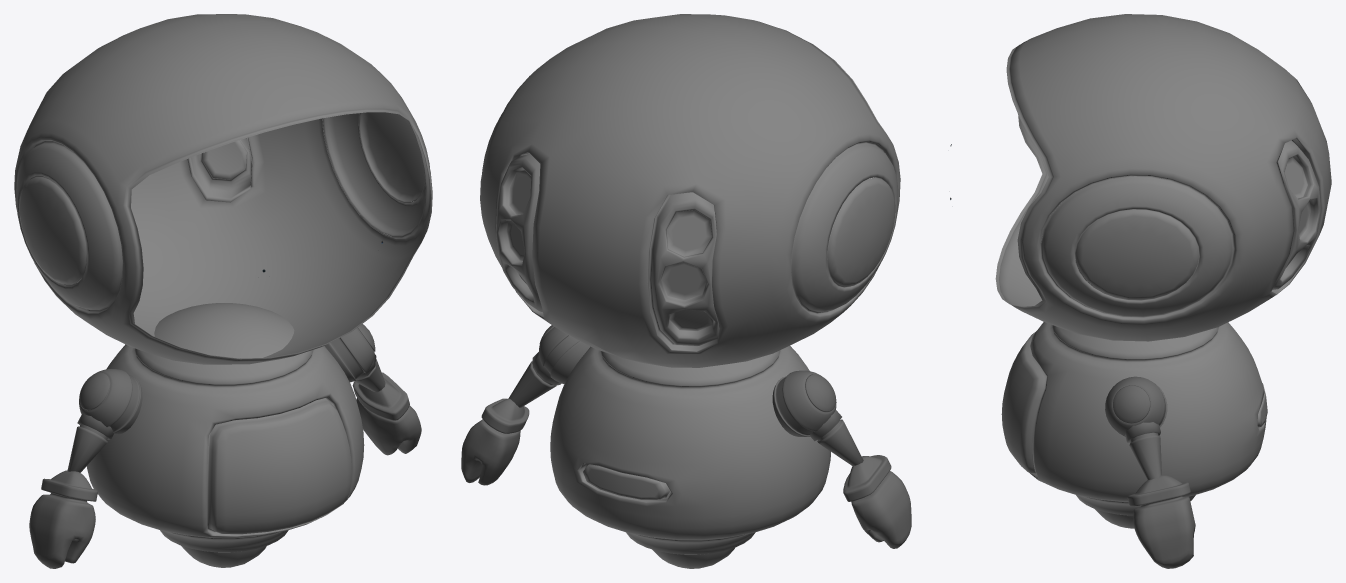
File: robot.dae
The picture shows the model from 3 angles, left to right: view 1: azimuth 30°, elevation 25°; view 2: azimuth 150°, elevation 25°; view 3: azimuth 270°, elevation 25°; orthographic projection. The views are drawn at different scales.
Parts seen in each view (by area): view 1: polySurface24, polySurface15, polySurface14, polySurface19, polySurface16, polySurface4, polySurface3, polySurface7, polySurface8, polySurface5, polySurface9, polySurface6; view 2: polySurface24, polySurface15, polySurface19, polySurface4, polySurface3, polySurface7, polySurface8, polySurface5, polySurface6, polySurface9; view 3: polySurface24, polySurface15, polySurface16, polySurface3, polySurface14, polySurface8, polySurface6.
Boxes of the visible parts, x1=… form: polySurface24: x1=14, y1=14, x2=432, y2=364; polySurface15: x1=86, y1=303, x2=364, y2=552; polySurface14: x1=208, y1=399, x2=351, y2=534; polySurface19: x1=16, y1=143, x2=121, y2=309; polySurface16: x1=322, y1=113, x2=429, y2=236; polySurface4: x1=29, y1=470, x2=97, y2=568; polySurface3: x1=352, y1=372, x2=421, y2=455; polySurface7: x1=79, y1=369, x2=142, y2=434; polySurface8: x1=324, y1=324, x2=375, y2=382; polySurface5: x1=67, y1=413, x2=113, y2=472; polySurface9: x1=181, y1=545, x2=266, y2=567; polySurface6: x1=354, y1=354, x2=385, y2=392; polySurface24: x1=480, y1=14, x2=900, y2=367; polySurface15: x1=550, y1=345, x2=830, y2=554; polySurface19: x1=792, y1=144, x2=898, y2=312; polySurface4: x1=843, y1=455, x2=911, y2=548; polySurface3: x1=461, y1=398, x2=529, y2=485; polySurface7: x1=772, y1=370, x2=836, y2=436; polySurface8: x1=539, y1=325, x2=590, y2=384; polySurface5: x1=810, y1=410, x2=863, y2=466; polySurface6: x1=509, y1=352, x2=561, y2=407; polySurface9: x1=652, y1=548, x2=734, y2=568; polySurface24: x1=995, y1=14, x2=1331, y2=341; polySurface15: x1=1030, y1=322, x2=1267, y2=515; polySurface16: x1=1041, y1=176, x2=1233, y2=316; polySurface3: x1=1127, y1=475, x2=1195, y2=568; polySurface14: x1=1001, y1=331, x2=1046, y2=473; polySurface8: x1=1105, y1=376, x2=1167, y2=436; polySurface6: x1=1125, y1=422, x2=1161, y2=479.
Size of the model in its own units: 7.4 by 9.19 by 6.68.
